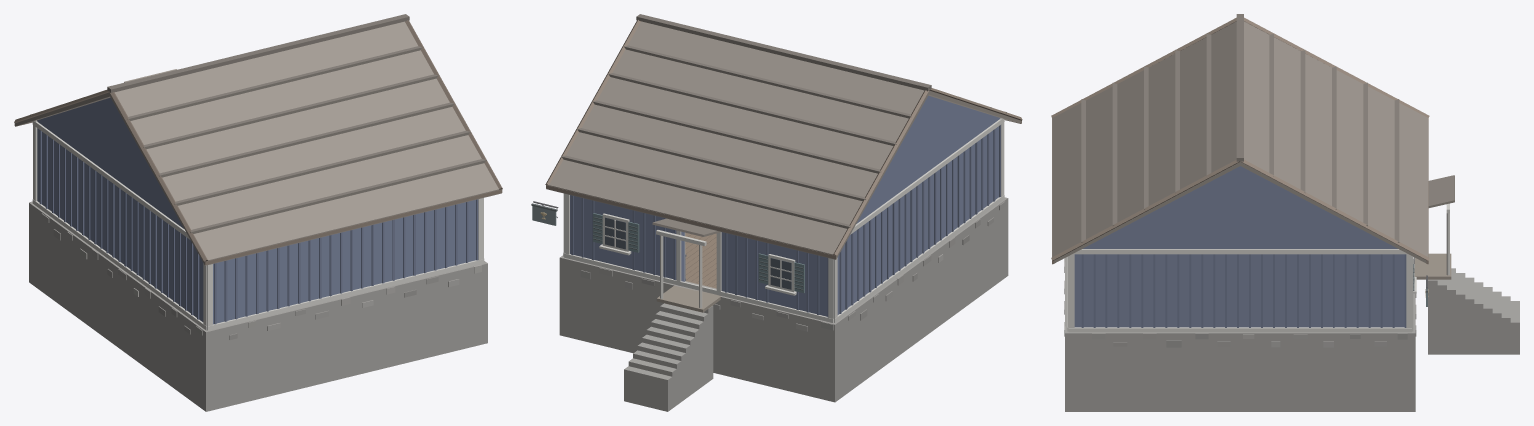
The model's file is trophy_hall_1.gltf.
3 renders of one model, left to right at view 1: azimuth 30°, elevation 25°; view 2: azimuth 150°, elevation 25°; view 3: azimuth 270°, elevation 25°, orthographic. The views are drawn at different scales.
Visible parts, largest first — view 1: Body; view 2: Body; view 3: Body.
Boxes of the visible parts, x1,y1,x2,y2 form: Body: (14,14,502,411); Body: (531,14,1022,411); Body: (1051,14,1519,411).
Bounding box in the file's own units: 12.55 × 9.99 × 16.45.
